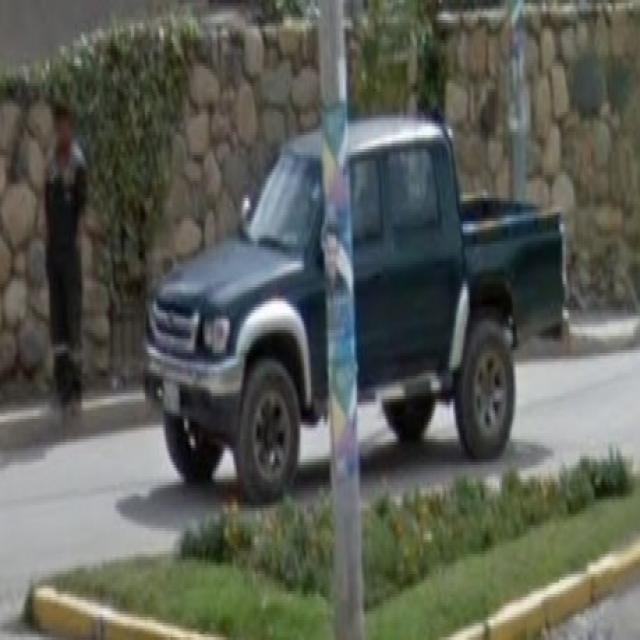Car: (147, 115, 567, 486)
